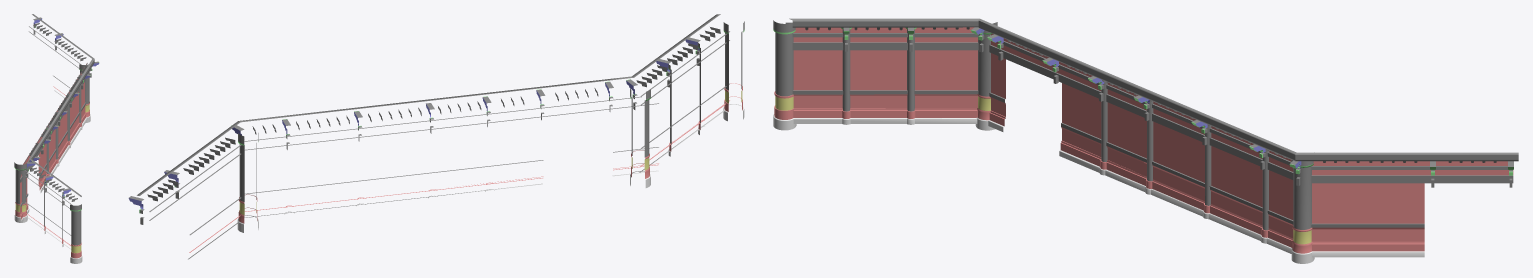
File: SM_ENV_KNVLLG03_Bridge_BendB_2.gltf
3 views of the same model, side by side, from view 1: azimuth 30°, elevation 25°; view 2: azimuth 150°, elevation 25°; view 3: azimuth 270°, elevation 25° (orthographic). The views are drawn at different scales.
Parts seen in each view (by area): view 1: SM_ENV_KNVLLG03_Bridge_BendB_2; view 2: SM_ENV_KNVLLG03_Bridge_BendB_2; view 3: SM_ENV_KNVLLG03_Bridge_BendB_2.
Part boxes in pixels (bbox=[...]): SM_ENV_KNVLLG03_Bridge_BendB_2: bbox=[14, 14, 99, 263]; SM_ENV_KNVLLG03_Bridge_BendB_2: bbox=[128, 14, 744, 259]; SM_ENV_KNVLLG03_Bridge_BendB_2: bbox=[773, 18, 1518, 263].
Size of the model in its own units: 18.16 by 6.28 by 37.69.
